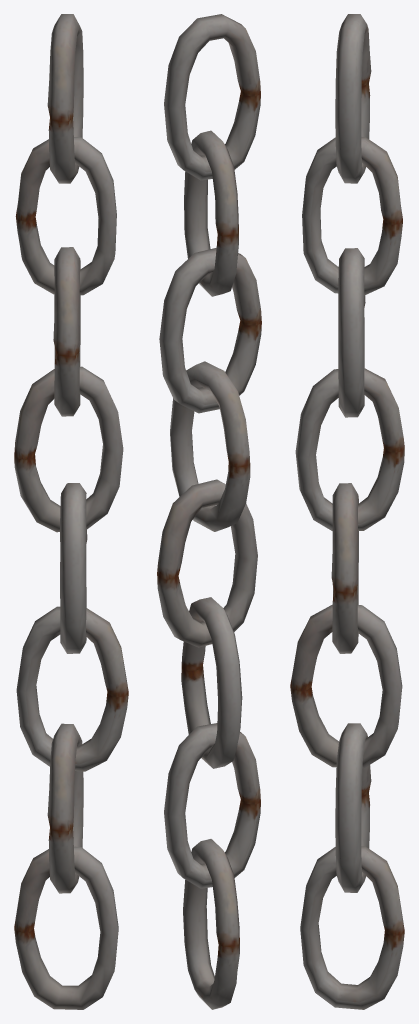
Rendered from Chain_01.fbx.
3 views of the same model, side by side, from view 1: azimuth 90°, elevation 25°; view 2: azimuth 210°, elevation 25°; view 3: azimuth 270°, elevation 25° (orthographic).
Visible parts, largest first — view 1: Chain_01_LOD0; view 2: Chain_01_LOD0; view 3: Chain_01_LOD0.
Boxes of the visible parts, <box> form: Chain_01_LOD0: <box>14,14,128,1009</box>; Chain_01_LOD0: <box>157,14,261,1009</box>; Chain_01_LOD0: <box>290,14,404,1009</box>.
Size of what is drawn, in the model's own units: 0.1078 by 1.04 by 0.109.
